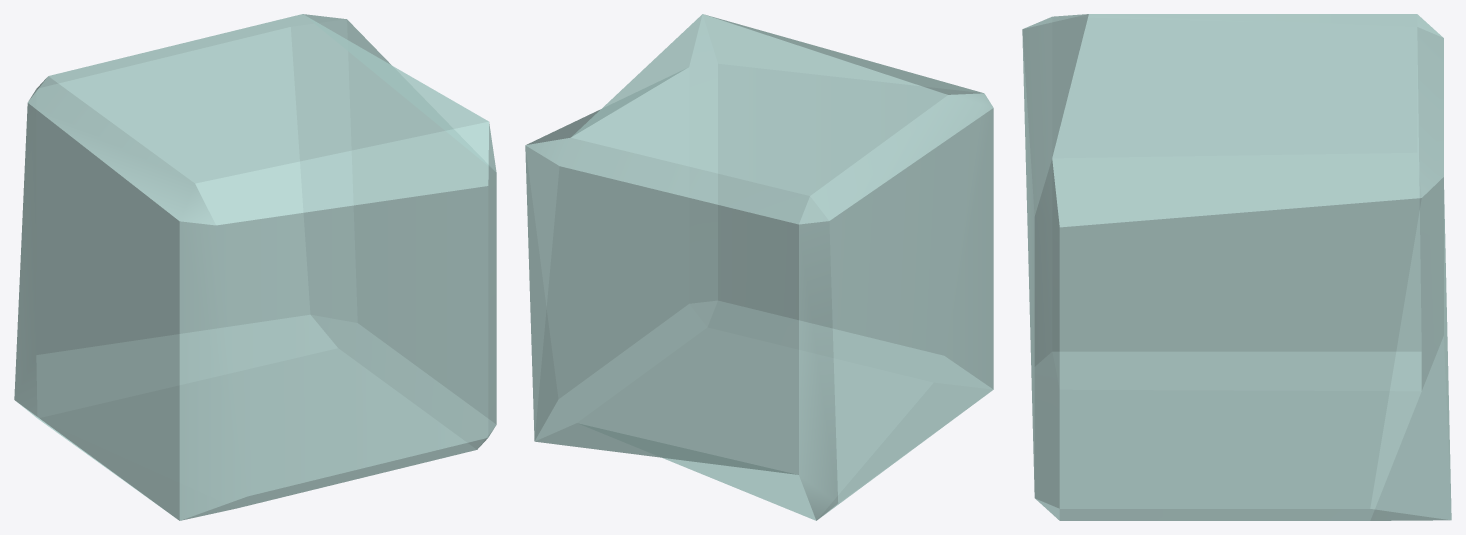
File: HIELO INDIVIDUAL.fbx
3 views of the same model, side by side, from view 1: azimuth 30°, elevation 25°; view 2: azimuth 150°, elevation 25°; view 3: azimuth 270°, elevation 25° (orthographic). The views are drawn at different scales.
Visible parts, largest first — view 1: hielo.005; view 2: hielo.005; view 3: hielo.005.
Part boxes in pixels (bbox=[...]): hielo.005: bbox=[14, 14, 496, 520]; hielo.005: bbox=[525, 14, 993, 520]; hielo.005: bbox=[1022, 14, 1451, 520].
Bounding box in the file's own units: 3.81 × 3.81 × 3.81.
